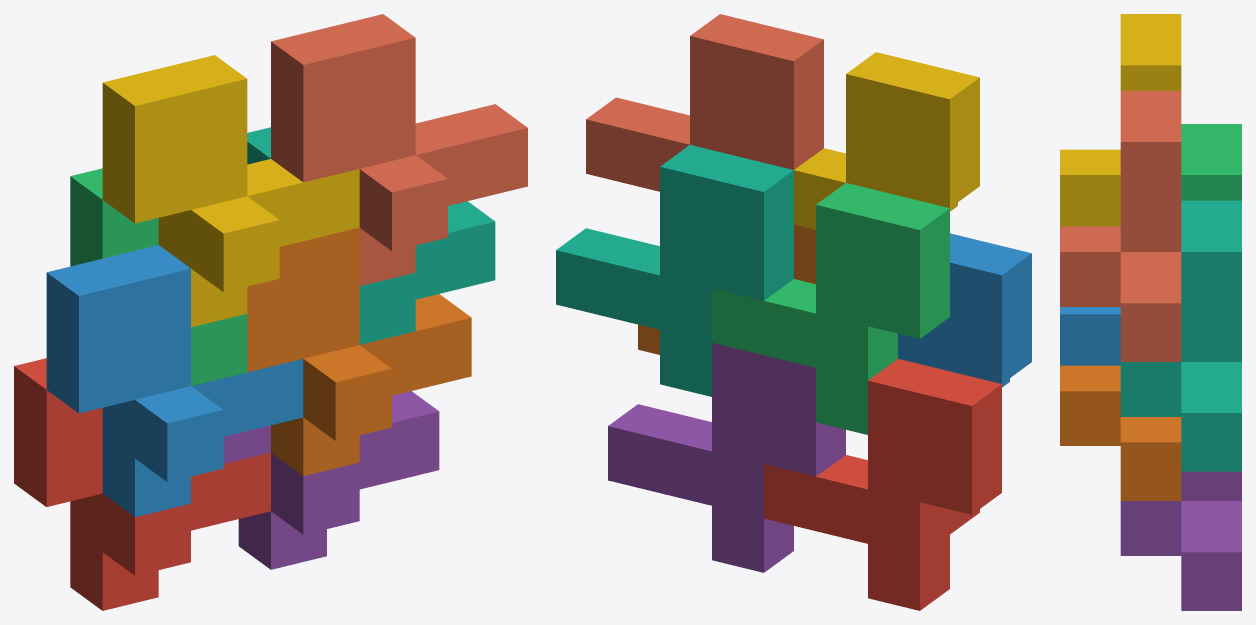
The model's file is tiling.obj.
The picture shows the model from 3 angles, left to right: view 1: azimuth 30°, elevation 25°; view 2: azimuth 150°, elevation 25°; view 3: azimuth 270°, elevation 25°; orthographic projection. The views are drawn at different scales.
Parts seen in each view (by area): view 1: copy_1_domain_2, copy_1_domain_8, copy_1_domain_4, copy_1_domain_6, copy_1_domain_1, copy_1_domain_5, copy_1_domain_7, copy_1_domain_3; view 2: copy_1_domain_1, copy_1_domain_7, copy_1_domain_3, copy_1_domain_5, copy_1_domain_8, copy_1_domain_4, copy_1_domain_2, copy_1_domain_6; view 3: copy_1_domain_8, copy_1_domain_7, copy_1_domain_5, copy_1_domain_6, copy_1_domain_4, copy_1_domain_3, copy_1_domain_2.
Part boxes in pixels (bbox=[...]): copy_1_domain_2: bbox=[46, 245, 303, 516]; copy_1_domain_8: bbox=[271, 14, 527, 285]; copy_1_domain_4: bbox=[102, 55, 359, 327]; copy_1_domain_6: bbox=[247, 227, 471, 475]; copy_1_domain_1: bbox=[14, 358, 270, 610]; copy_1_domain_5: bbox=[223, 391, 439, 569]; copy_1_domain_7: bbox=[247, 127, 495, 344]; copy_1_domain_3: bbox=[70, 168, 247, 385]; copy_1_domain_1: bbox=[764, 359, 1001, 610]; copy_1_domain_7: bbox=[556, 145, 793, 396]; copy_1_domain_3: bbox=[712, 183, 949, 434]; copy_1_domain_5: bbox=[608, 342, 845, 572]; copy_1_domain_8: bbox=[586, 14, 823, 191]; copy_1_domain_4: bbox=[794, 52, 979, 229]; copy_1_domain_2: bbox=[898, 233, 1031, 387]; copy_1_domain_6: bbox=[638, 224, 815, 354]; copy_1_domain_8: bbox=[1060, 91, 1181, 361]; copy_1_domain_7: bbox=[1120, 200, 1241, 471]; copy_1_domain_5: bbox=[1120, 471, 1241, 610]; copy_1_domain_6: bbox=[1060, 365, 1181, 500]; copy_1_domain_4: bbox=[1060, 14, 1181, 226]; copy_1_domain_3: bbox=[1181, 124, 1241, 200]; copy_1_domain_2: bbox=[1060, 307, 1120, 365].
Size of the model in its own units: 8 by 9 by 3.
